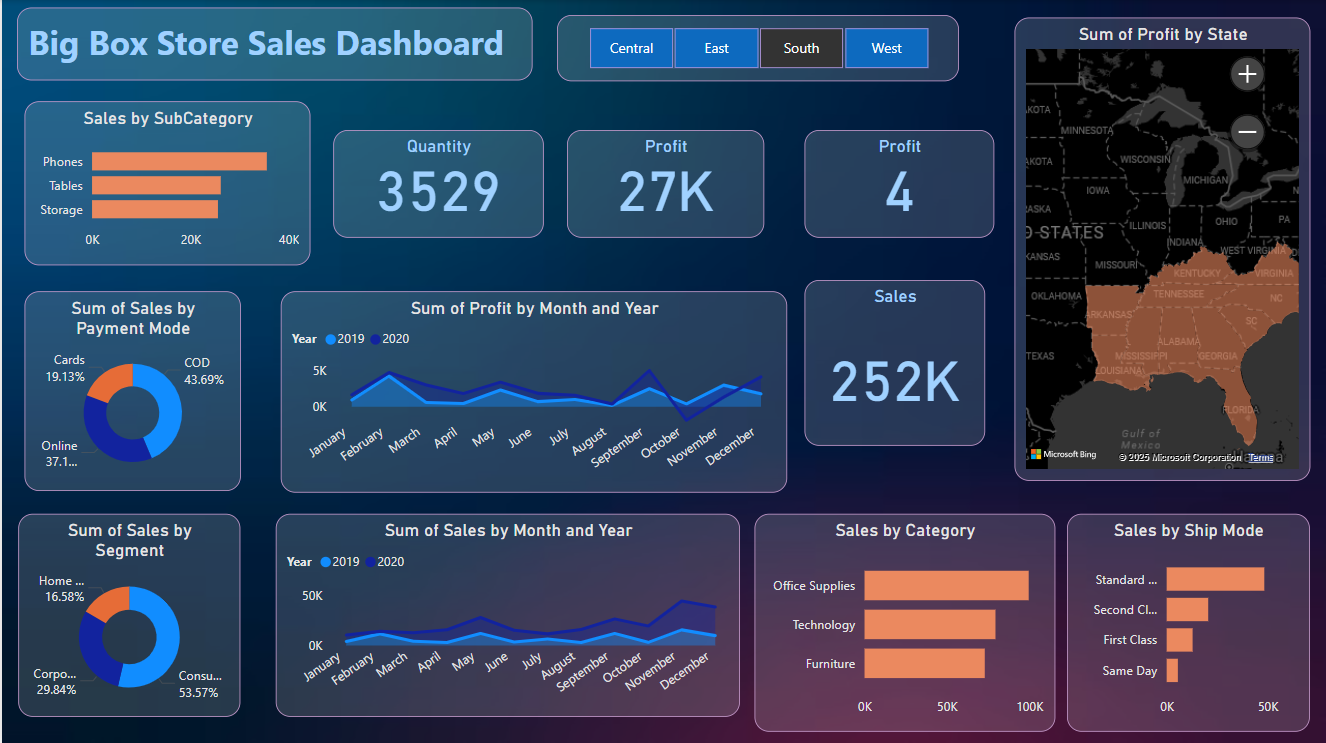

Layout of this report page (visuals, bound fields, positions):
{"tool":"powerbi","page":{"name":"Dashboard ","canvas":[1280,720],"ordinal":0},"visuals":[{"type":"clusteredBarChart","title":"Sales by Category","fields":{"Category":["SuperStore_Sales_Dataset.Category"],"Y":["Sum(SuperStore_Sales_Dataset.Sales)"]},"box":[726,496,290,210],"z":0},{"type":"clusteredBarChart","title":"Sales by SubCategory","fields":{"Category":["SuperStore_Sales_Dataset.Sub-Category"],"Y":["Sum(SuperStore_Sales_Dataset.Sales)"]},"box":[22,98,276,158],"z":1000},{"type":"clusteredBarChart","title":"Sales by Ship Mode","fields":{"Category":["SuperStore_Sales_Dataset.Ship Mode"],"Y":["Sum(SuperStore_Sales_Dataset.Sales)"]},"box":[1028,496,234,210],"z":2000},{"type":"stackedAreaChart","fields":{"Y":["Sum(SuperStore_Sales_Dataset.Sales)"],"Category":["SuperStore_Sales_Dataset.Order Date.Variation.Date Hierarchy.Month"],"Series":["SuperStore_Sales_Dataset.Order Date.Variation.Date Hierarchy.Year"]},"box":[264,496,448,196],"z":3000},{"type":"stackedAreaChart","fields":{"Category":["SuperStore_Sales_Dataset.Order Date.Variation.Date Hierarchy.Month"],"Series":["SuperStore_Sales_Dataset.Order Date.Variation.Date Hierarchy.Year"],"Y":["Sum(SuperStore_Sales_Dataset.Profit)"]},"box":[268.6,281.4,488.6,194.3],"z":4000},{"type":"filledMap","fields":{"Category":["SuperStore_Sales_Dataset.State"]},"box":[977.1,17.1,285.7,447.1],"z":5000},{"type":"donutChart","fields":{"Category":["SuperStore_Sales_Dataset.Segment"],"Y":["Sum(SuperStore_Sales_Dataset.Sales)"]},"box":[16,496,214,196],"z":6000},{"type":"donutChart","fields":{"Category":["SuperStore_Sales_Dataset.Payment Mode"],"Y":["Sum(SuperStore_Sales_Dataset.Sales)"]},"box":[21.4,281.4,208.6,192.9],"z":7000},{"type":"slicer","fields":{"Values":["SuperStore_Sales_Dataset.Region"]},"box":[536,14,388,64],"z":8000},{"type":"textbox","box":[15,7.5,497.5,70],"z":9000},{"type":"card","title":"Sales","fields":{"Values":["Sum(SuperStore_Sales_Dataset.Sales)"]},"box":[774,270,174,160],"z":10000},{"type":"card","title":"Quantity","fields":{"Values":["Sum(SuperStore_Sales_Dataset.Quantity)"]},"box":[320,125.7,202.9,104.3],"z":11000},{"type":"card","title":"Profit","fields":{"Values":["Sum(SuperStore_Sales_Dataset.Profit)"]},"box":[545.7,125.7,190,104.3],"z":12000},{"type":"card","title":"Profit","fields":{"Values":["Avg(SuperStore_Sales_Dataset.AvgDelivery)"]},"box":[774.3,125.7,182.9,104.3],"z":13000}]}

Visuals, with their boxes in screenshot pixels (x1, y1, x2, y2), scaled from the page's 1280x720 canvas onto the 1326x743 screenshot:
"Sales by Category" clusteredBarChart: (752,512,1053,729)
"Sales by SubCategory" clusteredBarChart: (23,101,309,264)
"Sales by Ship Mode" clusteredBarChart: (1065,512,1307,729)
stackedAreaChart - Sum(SuperStore_Sales_Dataset.Sales) x SuperStore_Sales_Dataset.Order Date.Variation.Date Hierarchy.Month: (273,512,738,714)
stackedAreaChart - SuperStore_Sales_Dataset.Order Date.Variation.Date Hierarchy.Month x SuperStore_Sales_Dataset.Order Date.Variation.Date Hierarchy.Year: (278,290,784,491)
filledMap - SuperStore_Sales_Dataset.State: (1012,18,1308,479)
donutChart - SuperStore_Sales_Dataset.Segment x Sum(SuperStore_Sales_Dataset.Sales): (17,512,238,714)
donutChart - SuperStore_Sales_Dataset.Payment Mode x Sum(SuperStore_Sales_Dataset.Sales): (22,290,238,489)
slicer - SuperStore_Sales_Dataset.Region: (555,14,957,80)
textbox: (16,8,531,80)
"Sales" card: (802,279,982,444)
"Quantity" card: (332,130,542,237)
"Profit" card: (565,130,762,237)
"Profit" card: (802,130,992,237)
